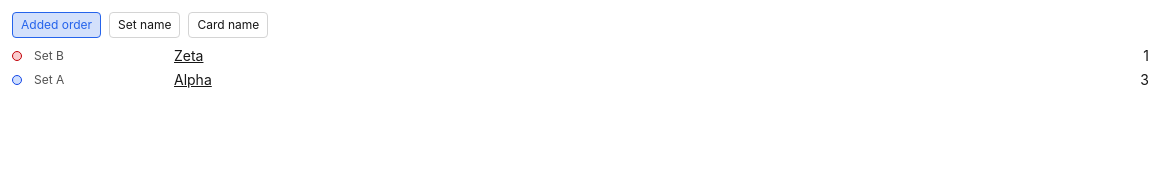
BatchCardList › switching back to Added order restores the original order
This screenshot has width=1164, height=172.
Click the button "Card name".
click(228, 25)  # box left=188, top=12, right=268, bottom=38
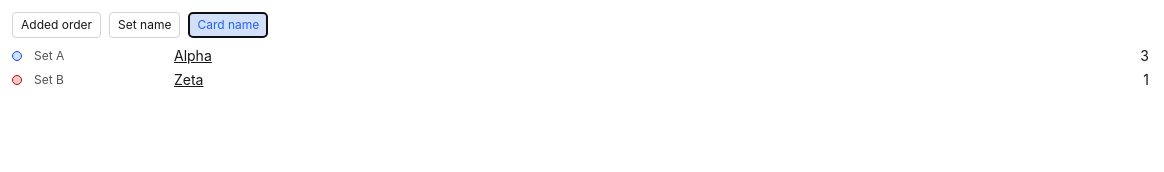
Click the button "Added order".
click(57, 25)  # box left=12, top=12, right=101, bottom=38
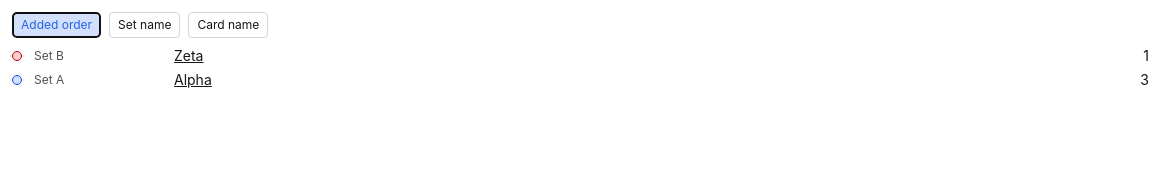
Result: the buttons "Show details for" read "Zeta", "Alpha", in this order at left=174, top=46, right=204, bottom=66; left=174, top=70, right=212, bottom=90
